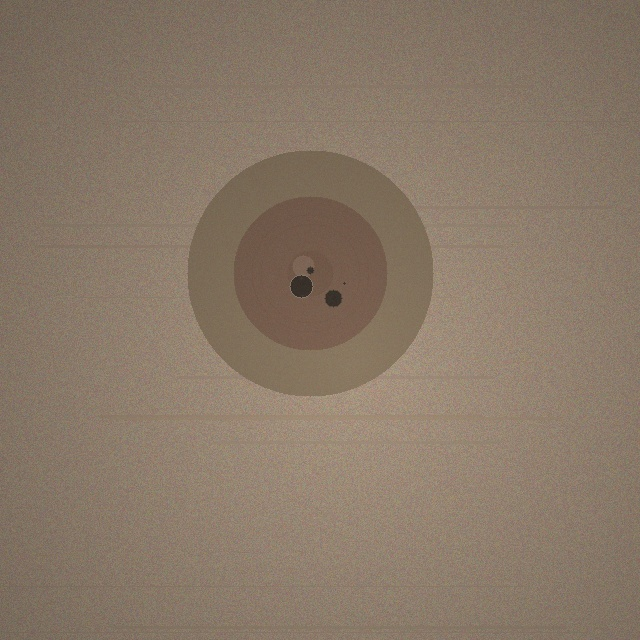shrinkage: (187, 150, 433, 396)
